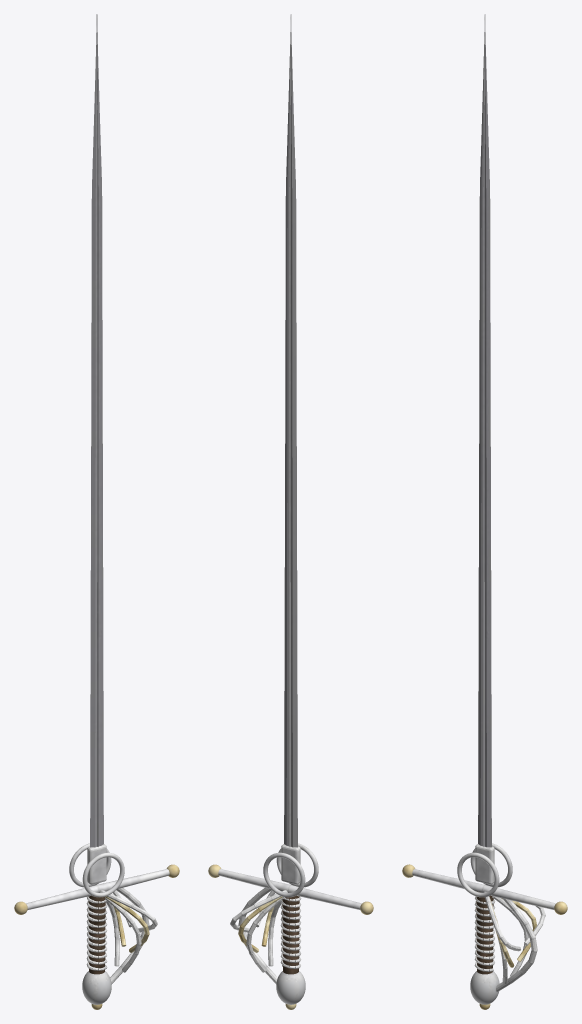
3 views of the same model, side by side, from view 1: azimuth 30°, elevation 25°; view 2: azimuth 150°, elevation 25°; view 3: azimuth 330°, elevation 25° (orthographic).
Visible parts, largest first — view 1: metal_silver, leather_dark, metal_gold; view 2: metal_silver, leather_dark, metal_gold; view 3: metal_silver, leather_dark, metal_gold.
Boxes of the visible parts, box(x1,y1,x2,y2) form: metal_silver: box(26, 14, 169, 1004); leather_dark: box(88, 895, 105, 974); metal_gold: box(14, 864, 179, 1009); metal_silver: box(218, 14, 361, 1004); leather_dark: box(282, 895, 299, 974); metal_gold: box(208, 864, 373, 1009); metal_silver: box(412, 14, 555, 1004); leather_dark: box(476, 891, 493, 974); metal_gold: box(402, 864, 567, 1009).
Size of the model in its own units: 0.28 by 1.63 by 0.125.
3 materials, 3 textured.
